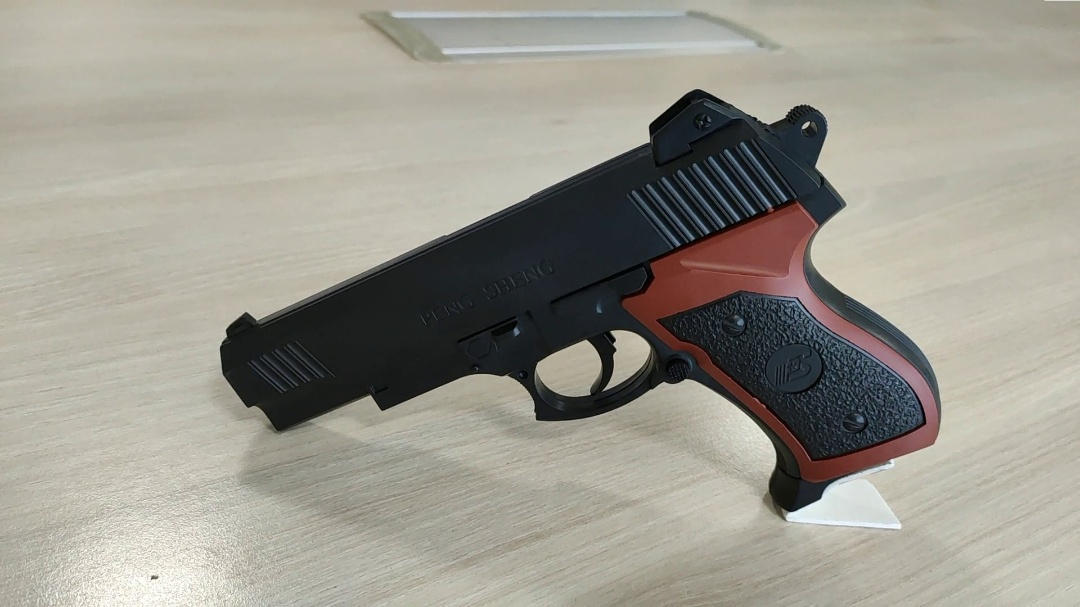gun: (216, 84, 949, 513)
